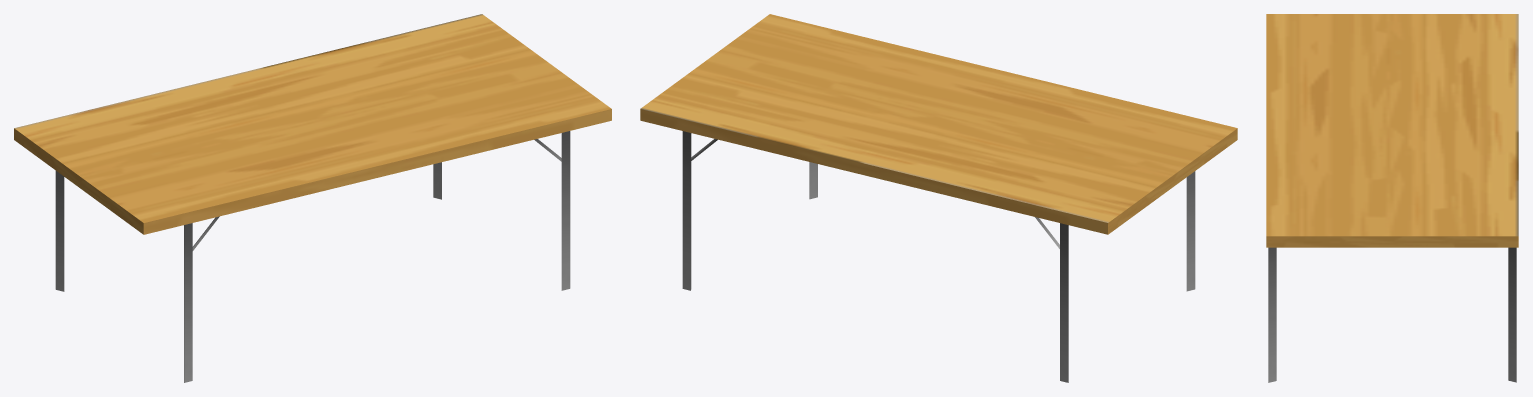
File: Centerfold_Table.fbx
3 views of the same model, side by side, from view 1: azimuth 30°, elevation 25°; view 2: azimuth 150°, elevation 25°; view 3: azimuth 270°, elevation 25° (orthographic). The views are drawn at different scales.
Visible parts, largest first — view 1: Centerfold_Table; view 2: Centerfold_Table; view 3: Centerfold_Table.
Part boxes in pixels (bbox=[...]): Centerfold_Table: bbox=[14, 14, 611, 382]; Centerfold_Table: bbox=[640, 14, 1237, 382]; Centerfold_Table: bbox=[1266, 14, 1518, 382].
Bounding box in the file's own units: 250 × 87.11 × 120.
